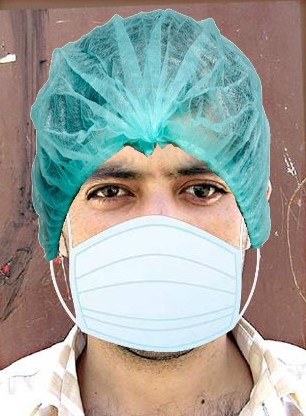with_mask_and_cap: (38, 17, 268, 354)
